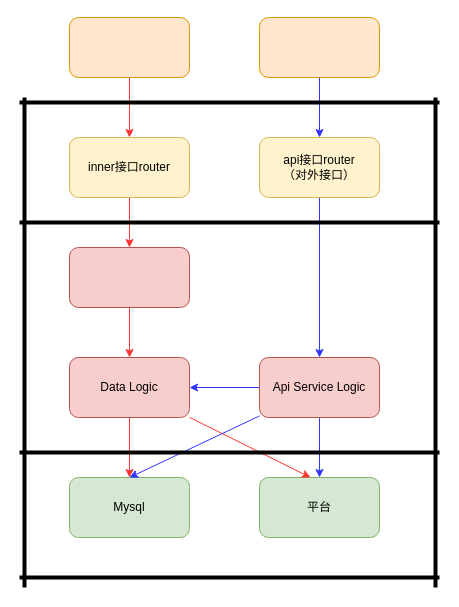
Some shapes in this 459 by 607 pixel diagram are drawn without their labels. Each missing label, with the centre of its shape:
"Inner Service Logic" goes at [129,277].
"对内接口 （其他backend服务调用）" goes at [129,47].
"对外接口" goes at [319,47].
